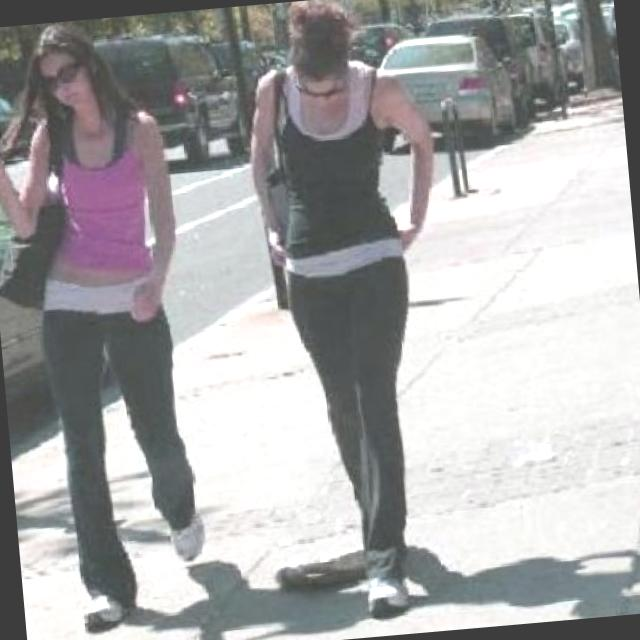Person: (229, 0, 486, 627), (0, 12, 221, 627)
